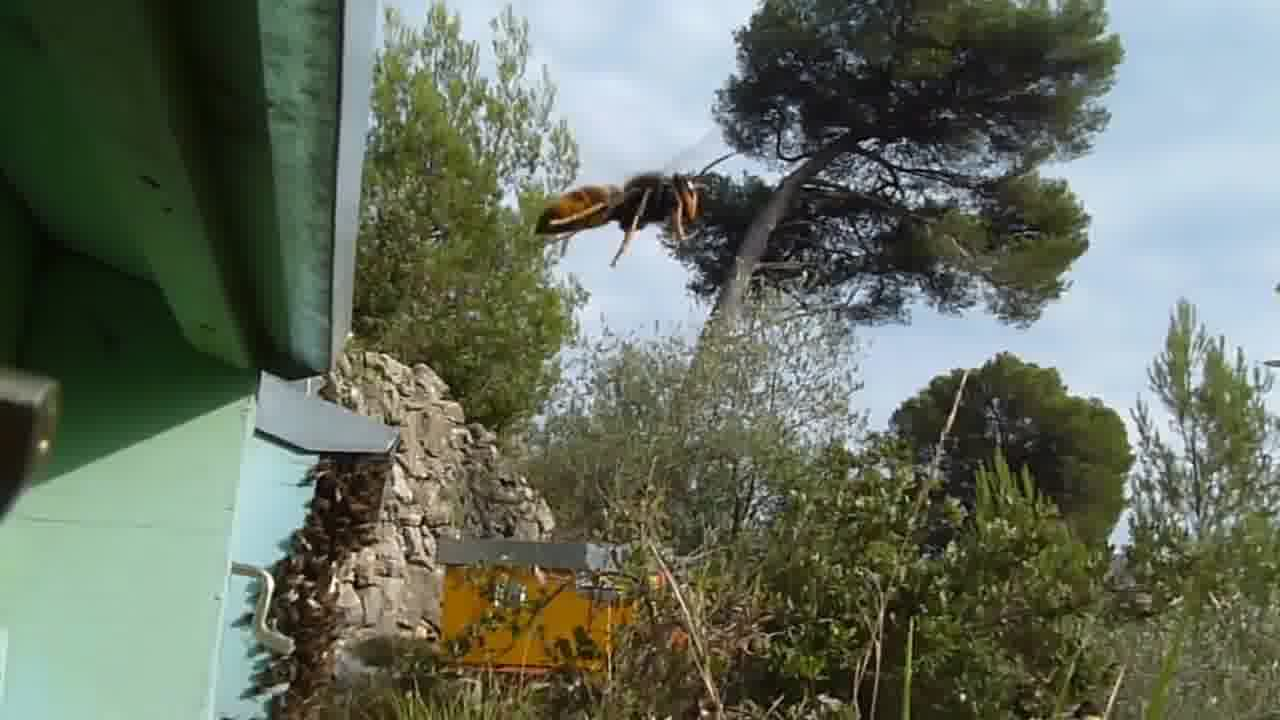bee: (277, 537, 348, 682), (309, 451, 392, 544)
hornet: (520, 162, 721, 254)
